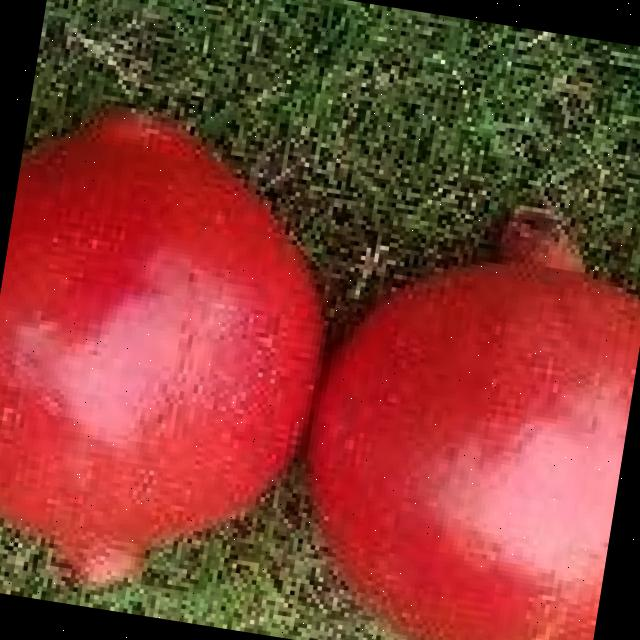Good_Pomegranate-50-60-days: (0, 114, 640, 640)
